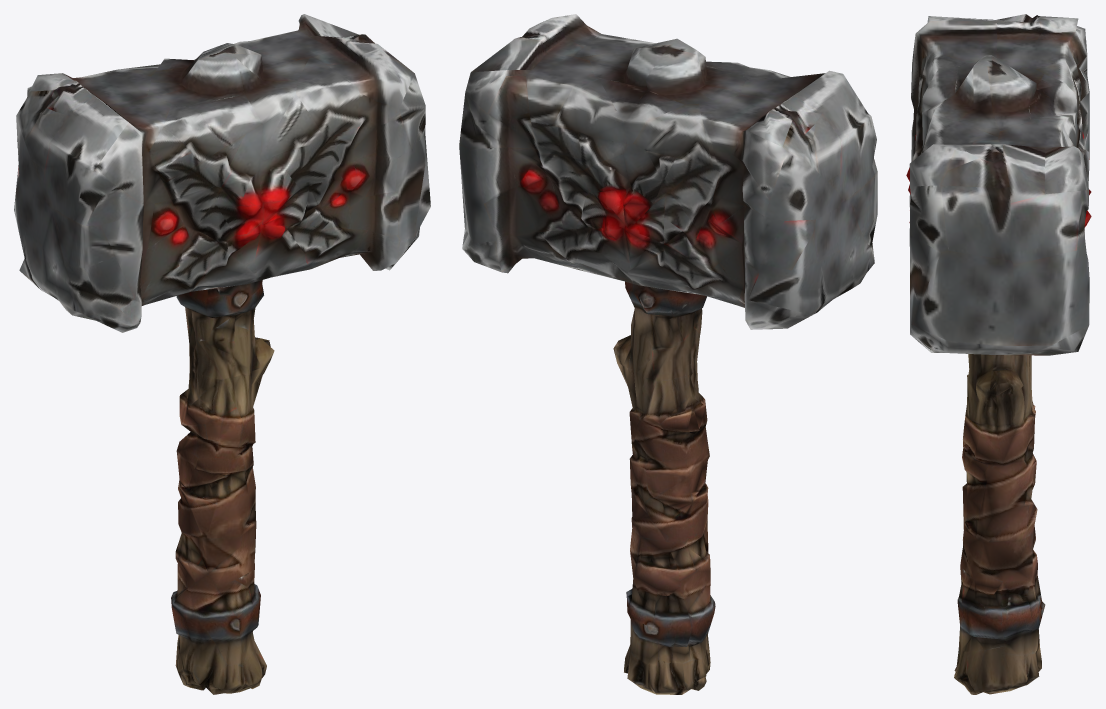
Rendered from 1536_hammer.glb.
3 renders of one model, left to right at view 1: azimuth 30°, elevation 25°; view 2: azimuth 150°, elevation 25°; view 3: azimuth 270°, elevation 25°, orthographic. The views are drawn at different scales.
Parts seen in each view (by area): view 1: Model; view 2: Model; view 3: Model.
Part boxes in pixels (left/top/right/bottom): Model: left=14, top=14, right=430, bottom=694; Model: left=459, top=14, right=877, bottom=694; Model: left=906, top=14, right=1091, bottom=694.
Bounding box in the file's own units: 0.5807 × 1 × 0.272.
Materials: 1 (1 with a texture image).
